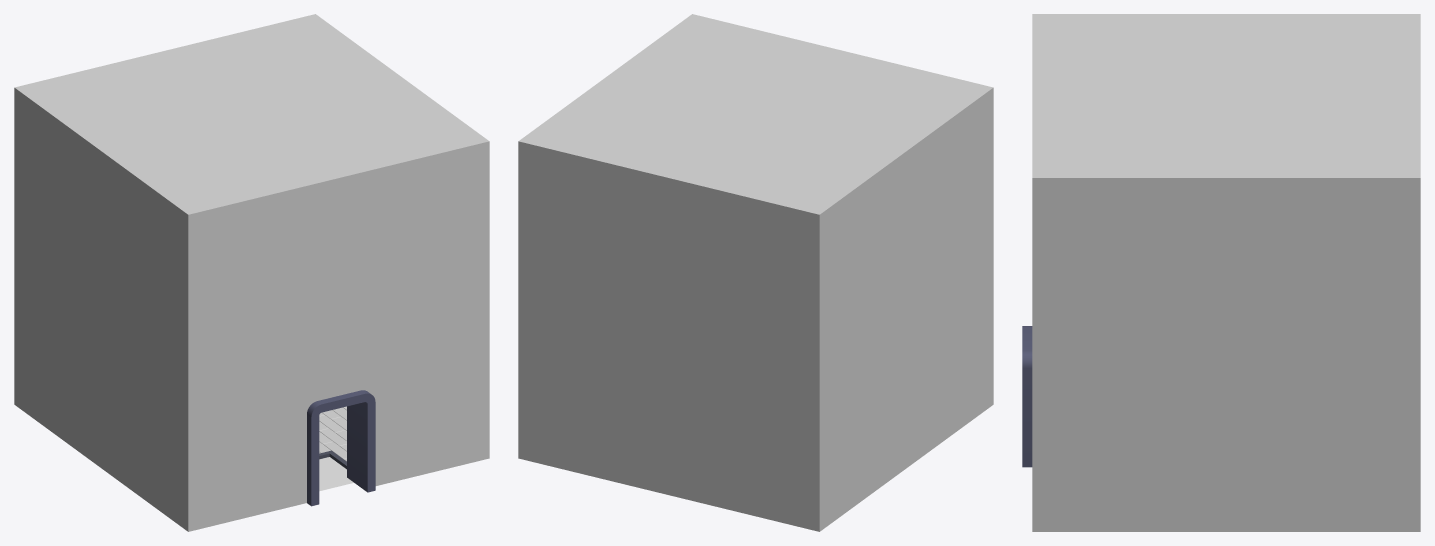
The model's file is PlayerHuose.fbx.
The picture shows the model from 3 angles, left to right: view 1: azimuth 30°, elevation 25°; view 2: azimuth 150°, elevation 25°; view 3: azimuth 270°, elevation 25°; orthographic projection. The views are drawn at different scales.
Visible parts, largest first — view 1: Huose, doorFramle, woodFloor; view 2: Huose; view 3: Huose, doorFramle.
Part boxes in pixels (left/top/right/bottom): Huose: left=14, top=14, right=489, bottom=531; doorFramle: left=307, top=390, right=375, bottom=506; woodFloor: left=319, top=406, right=346, bottom=461; Huose: left=518, top=14, right=993, bottom=531; Huose: left=1032, top=14, right=1420, bottom=531; doorFramle: left=1022, top=326, right=1032, bottom=467.
Bounding box in the file's own units: 1690 × 1700 × 1734.
